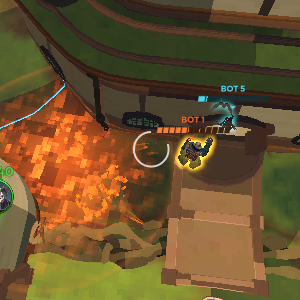model: (173, 134, 217, 175)
